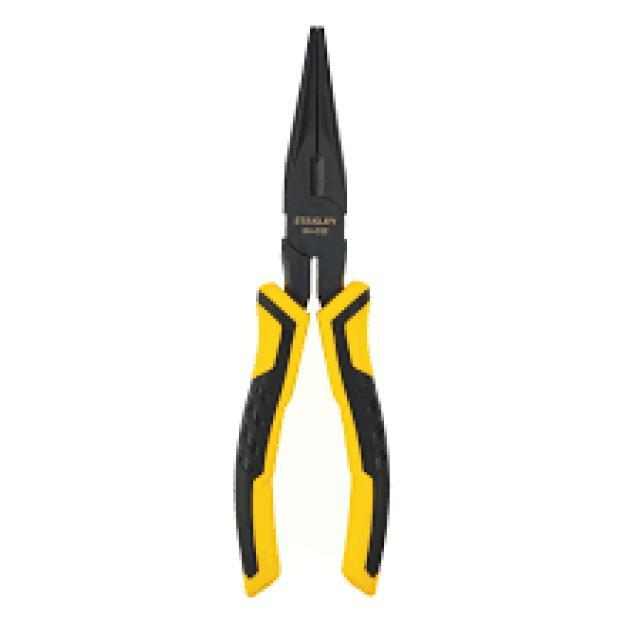pliers: (221, 18, 406, 600)
